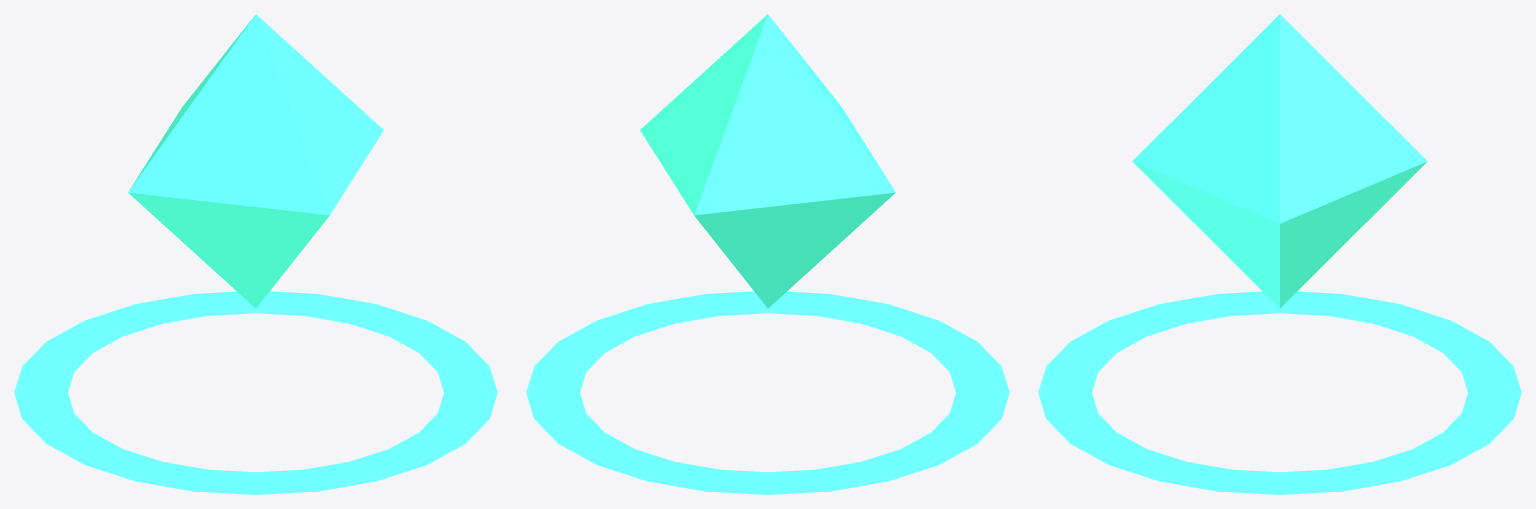
The model's file is dpwii_parcial2_marcadores_objeto.glb.
The picture shows the model from 3 angles, left to right: view 1: azimuth 30°, elevation 25°; view 2: azimuth 150°, elevation 25°; view 3: azimuth 270°, elevation 25°; orthographic projection.
Visible parts, largest first — view 1: MarkerRoot; view 2: MarkerRoot; view 3: MarkerRoot.
Part boxes in pixels (x1,y1,x2,y2): MarkerRoot: (14,14,497,494); MarkerRoot: (526,14,1009,494); MarkerRoot: (1038,14,1521,494).
Size of the model in its own units: 0.72 by 0.622 by 0.72.
